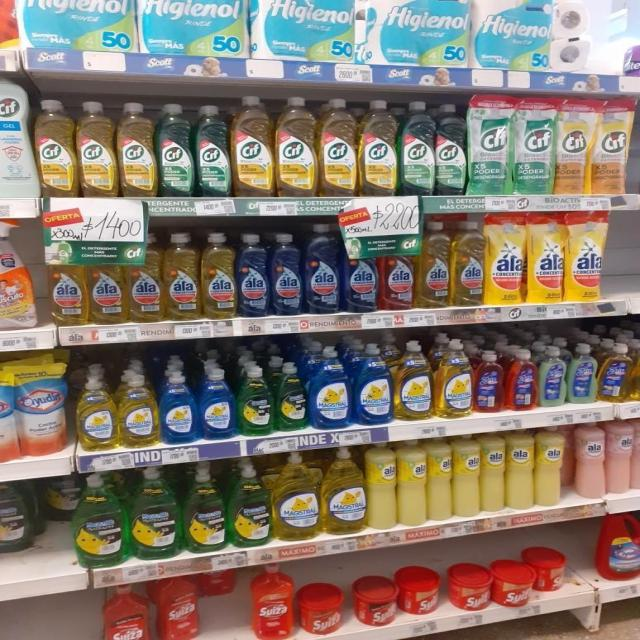ala_conc_amarillo: (127, 232, 163, 323), (164, 232, 200, 321), (201, 232, 236, 319), (417, 220, 450, 310), (48, 251, 87, 326), (88, 248, 125, 325), (452, 220, 484, 308)
ala_conc_azul: (304, 223, 342, 314), (344, 228, 378, 313), (238, 233, 270, 318), (270, 232, 302, 316)
ala_conc_rojo: (380, 226, 415, 312)
ala_crem_amarillo: (367, 440, 397, 531), (535, 424, 566, 508), (398, 438, 426, 528), (506, 428, 534, 510), (453, 433, 480, 518), (480, 431, 506, 514), (428, 437, 452, 522)
ala_crem_rosado: (574, 420, 605, 500), (606, 418, 632, 495), (632, 416, 640, 492)
ala_sachet_amarillo: (486, 212, 525, 305), (566, 210, 604, 303), (527, 211, 564, 304)
cif_conc_bot_amarilla: (275, 96, 317, 197), (232, 95, 273, 198), (36, 99, 76, 198), (359, 99, 398, 197), (319, 99, 357, 198), (78, 100, 116, 198), (118, 101, 155, 197)
cif_conc_botella_verde: (157, 102, 194, 198), (399, 100, 434, 196), (196, 104, 230, 197), (435, 103, 466, 196)
cif_conc_sachet_amarillo: (592, 97, 630, 195), (556, 98, 590, 196), (631, 96, 640, 194)
cif_conc_sachet_verde: (468, 94, 510, 196), (512, 96, 554, 195)
magistral_con_amarillo: (274, 452, 320, 542), (322, 446, 367, 534), (76, 372, 117, 451), (394, 339, 432, 422), (435, 339, 472, 419), (119, 372, 158, 447)
magistral_con_azul: (309, 345, 352, 430), (354, 342, 392, 426), (160, 369, 197, 444), (199, 367, 236, 440)
magistral_con_verde: (72, 472, 127, 567), (130, 466, 181, 560), (184, 464, 226, 553), (229, 463, 271, 548)
zorro: (599, 342, 631, 403), (474, 349, 504, 414), (506, 348, 536, 411), (568, 342, 597, 404), (538, 345, 566, 408), (632, 342, 640, 401)
